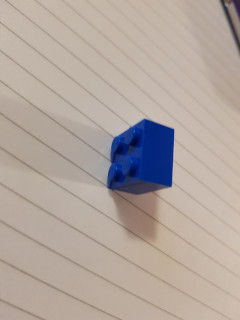2x2 blue: (105, 117, 176, 196)
